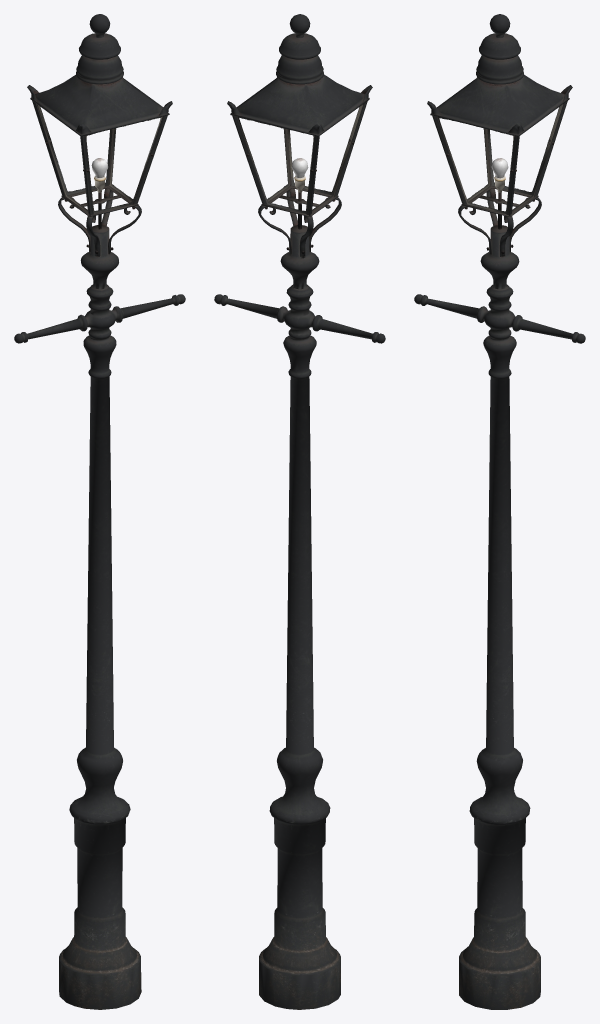
File: street_lamp_01.fbx
3 views of the same model, side by side, from view 1: azimuth 30°, elevation 25°; view 2: azimuth 150°, elevation 25°; view 3: azimuth 330°, elevation 25° (orthographic).
Parts seen in each view (by area): view 1: street_lamp_01; view 2: street_lamp_01; view 3: street_lamp_01.
Part boxes in pixels (<box>): street_lamp_01: <box>14,14,185,1009</box>; street_lamp_01: <box>214,14,385,1009</box>; street_lamp_01: <box>414,14,585,1009</box>.
Bounding box in the file's own units: 0.704 × 3.87 × 0.3854.
Materials: 3 (3 with a texture image).
